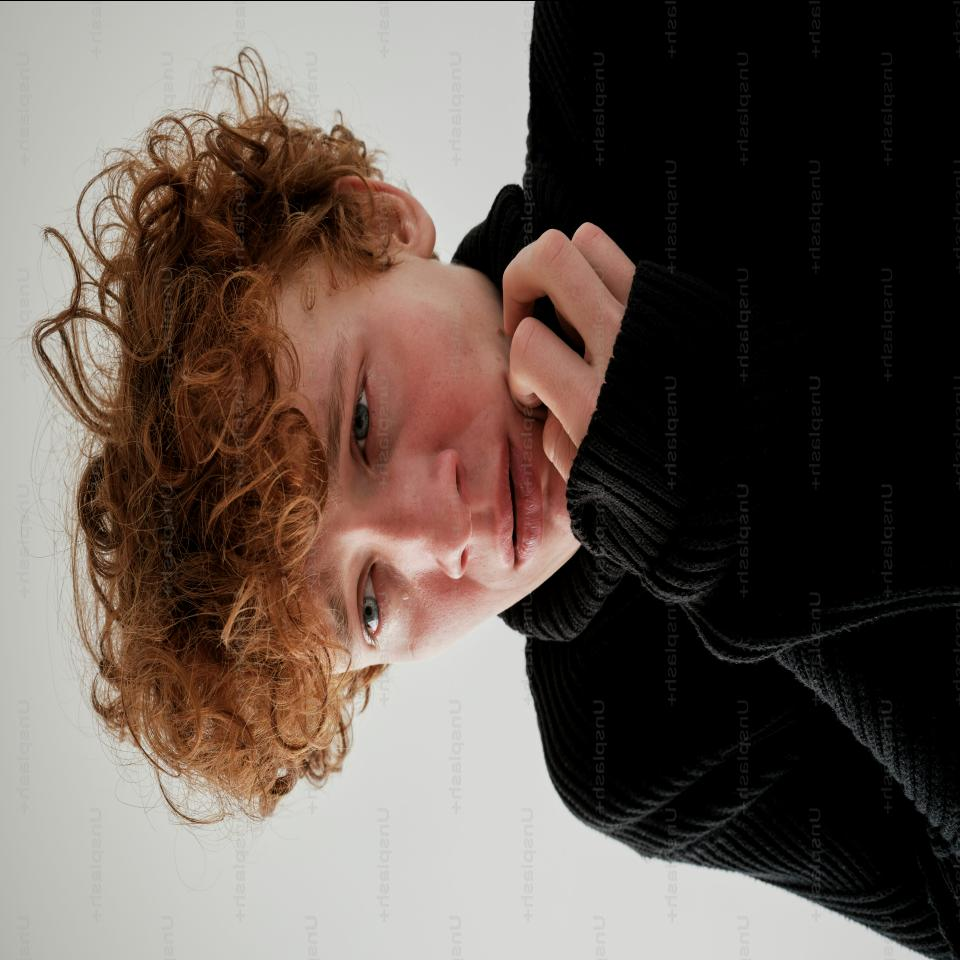Sadness: (201, 274, 577, 676)
